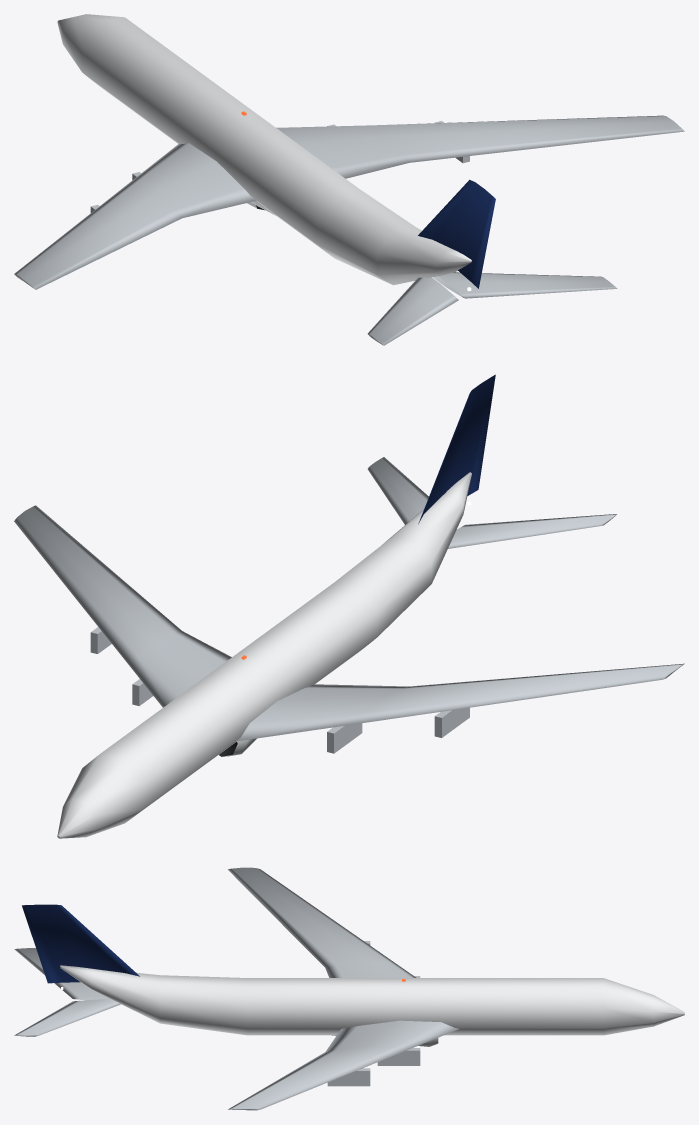
Rendered from fleet_heavy4_lod2.glb.
3 views of the same model, one above another, from view 1: azimuth 30°, elevation 25°; view 2: azimuth 150°, elevation 25°; view 3: azimuth 270°, elevation 25° (orthographic). The views are drawn at different scales.
Visible parts, largest first — view 1: fleet_heavy4_lod2_wing, fleet_heavy4_lod2_white, fleet_heavy4_lod2_blue; view 2: fleet_heavy4_lod2_white, fleet_heavy4_lod2_wing, fleet_heavy4_lod2_blue; view 3: fleet_heavy4_lod2_white, fleet_heavy4_lod2_wing, fleet_heavy4_lod2_blue.
Part boxes in pixels (left/top/right/bottom): fleet_heavy4_lod2_wing: left=14, top=115, right=684, bottom=345; fleet_heavy4_lod2_white: left=57, top=14, right=471, bottom=285; fleet_heavy4_lod2_blue: left=418, top=179, right=495, bottom=288; fleet_heavy4_lod2_white: left=57, top=472, right=471, bottom=838; fleet_heavy4_lod2_wing: left=14, top=457, right=684, bottom=753; fleet_heavy4_lod2_blue: left=418, top=374, right=495, bottom=524; fleet_heavy4_lod2_white: left=60, top=965, right=684, bottom=1035; fleet_heavy4_lod2_wing: left=14, top=867, right=459, bottom=1110; fleet_heavy4_lod2_blue: left=22, top=904, right=139, bottom=983.
Size of the model in its own units: 64.4 by 17.62 by 75.95.
